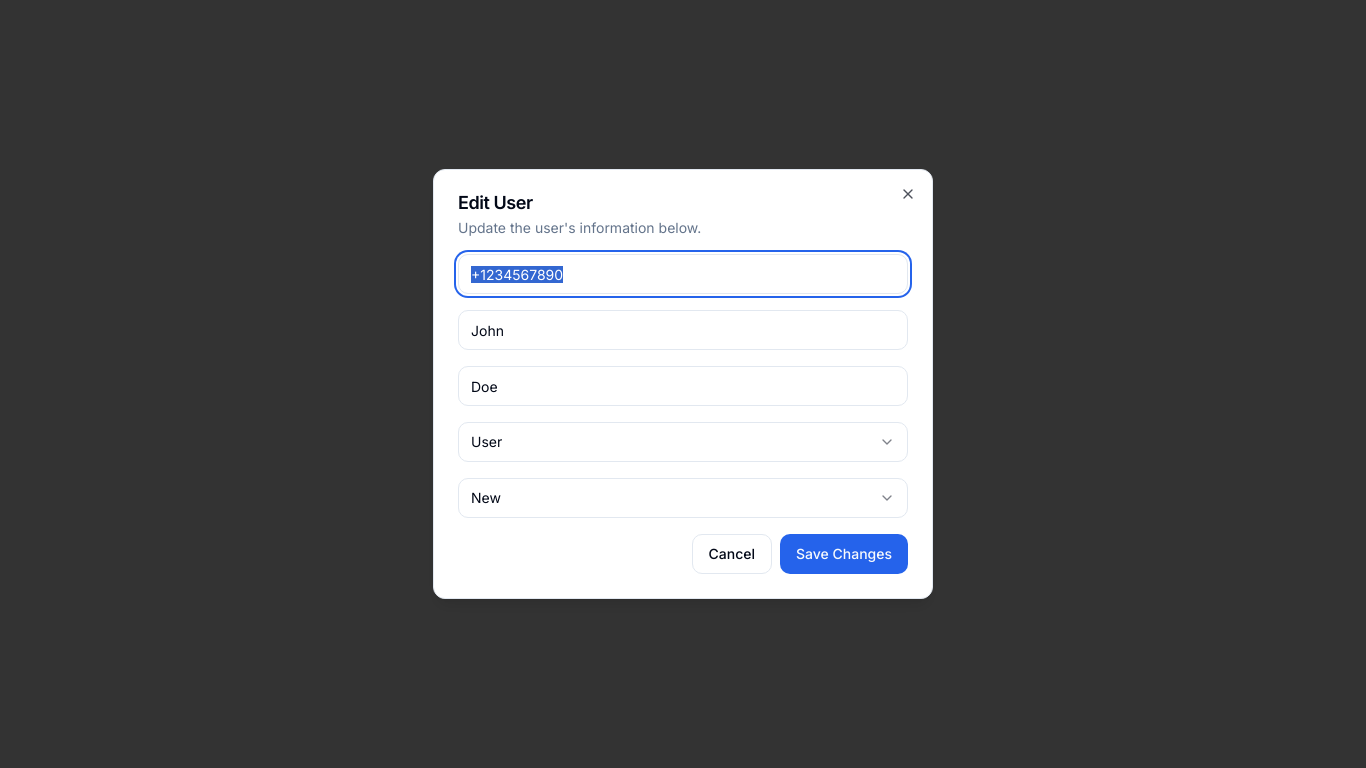
Test: EditUserDialog Component › Form Submission › should disable buttons while loading
This screenshot has width=1366, height=768.
Click the button "Save Changes". click: (844, 554)
box: [780,534,908,574]
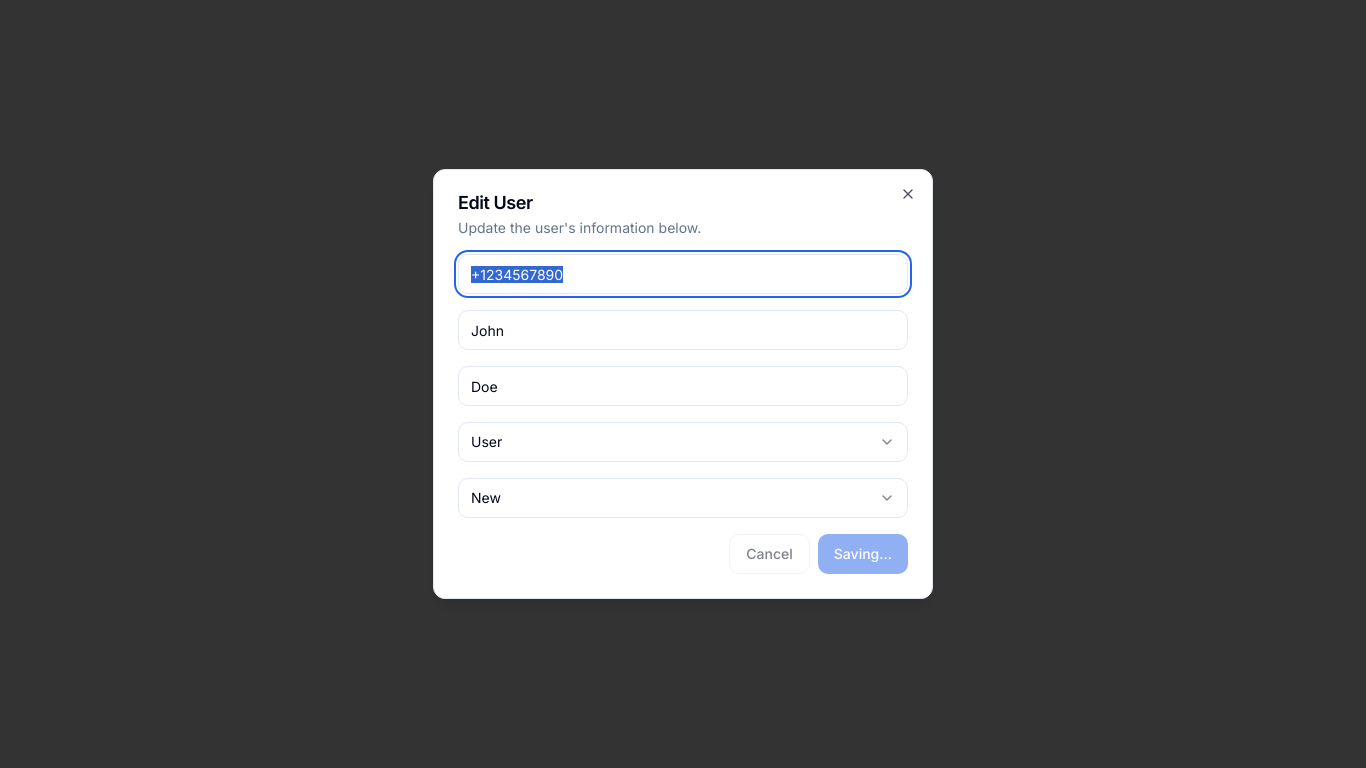
Expected: the button named "save changes" is disabled, [818,534,908,574]
Expected: the button "Cancel" is disabled, [729,534,810,574]
